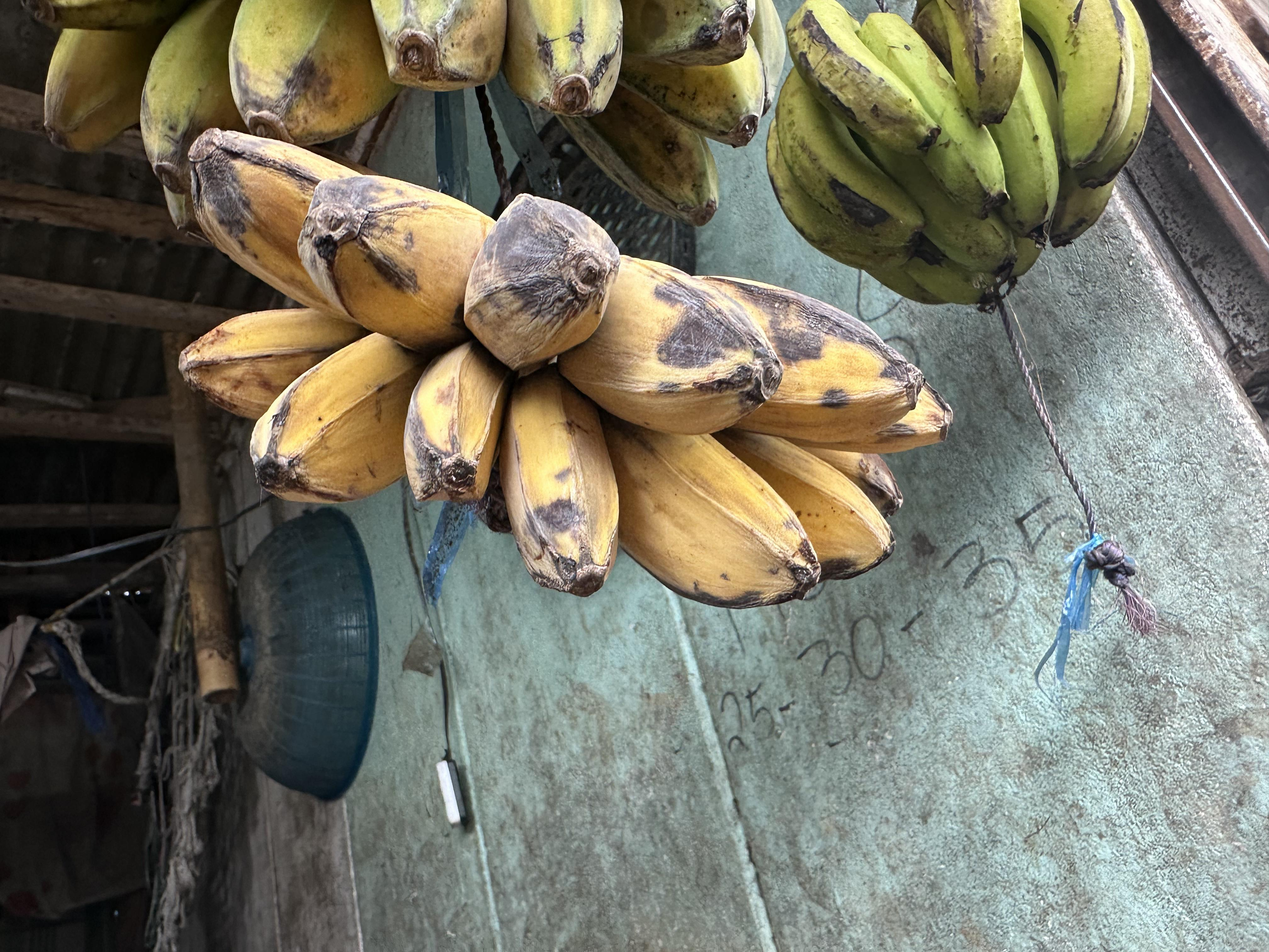ripe: (178, 128, 954, 609)
underripe: (21, 0, 788, 245)
